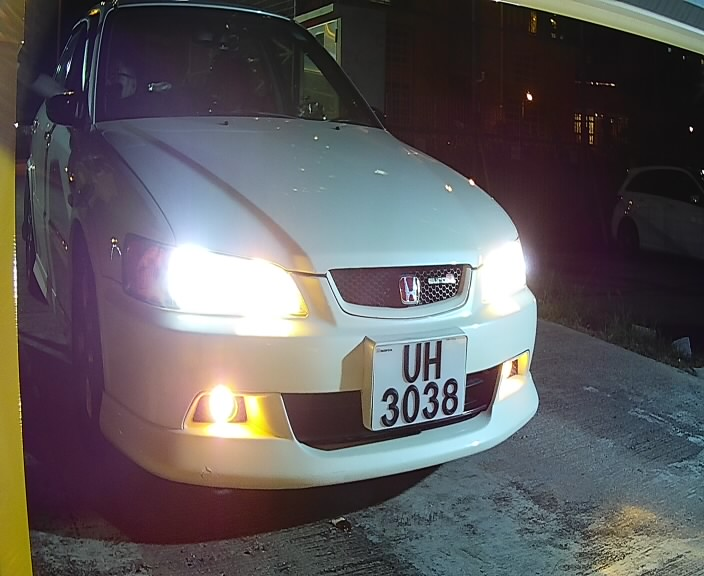Car: (54, 1, 570, 535)
License Plate: (361, 329, 474, 438)
